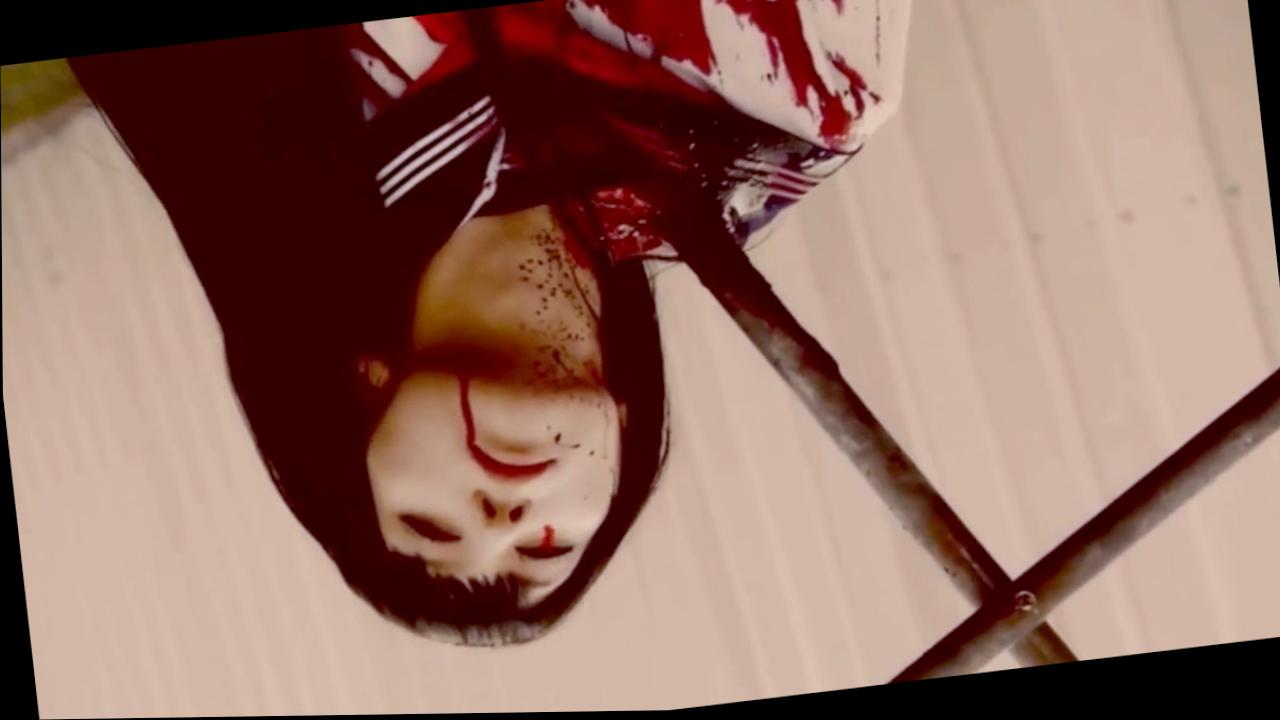Fire: (334, 0, 914, 601)
